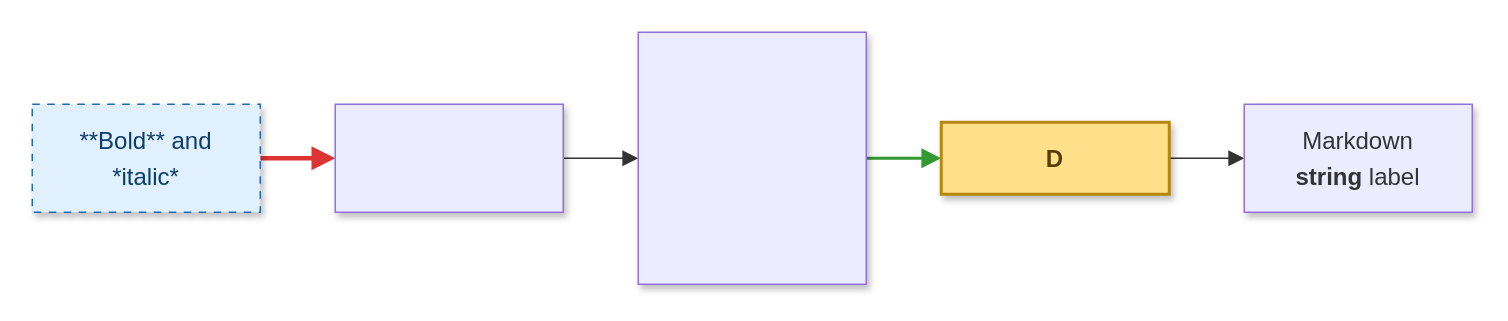
Image size: 1508x321. Some labels were removed from this diagram. Here are the shapes that lost their labels. From the top down, the centre of each, then its label:
At (450,160): "Line one Line two".
At (753,160): "A rather long label that Mermaid will have to wrap onto more than one line".
